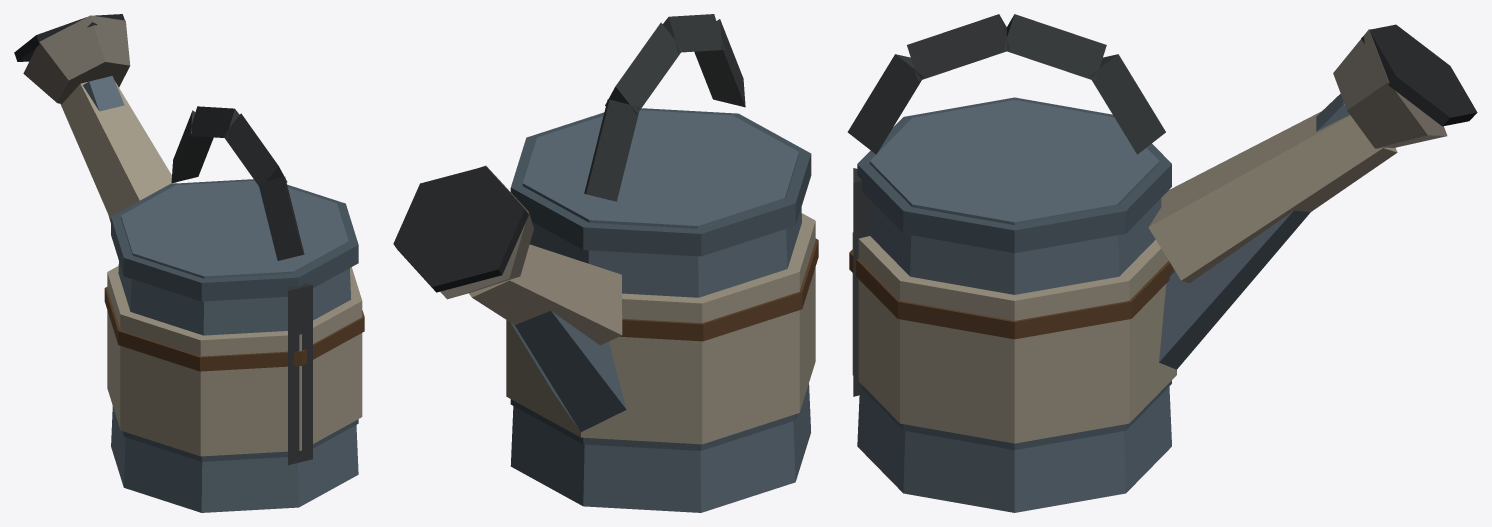
The model's file is tool_watering_can_quiet.glb.
The picture shows the model from 3 angles, left to right: view 1: azimuth 30°, elevation 25°; view 2: azimuth 150°, elevation 25°; view 3: azimuth 270°, elevation 25°; orthographic projection. The views are drawn at different scales.
Parts seen in each view (by area): view 1: Can; view 2: Can; view 3: Can.
Boxes of the visible parts, left/top/right/bottom form: Can: left=14, top=14, right=364, bottom=512; Can: left=393, top=14, right=818, bottom=512; Can: left=847, top=14, right=1477, bottom=512.
Size of the model in its own units: 0.21 by 0.3031 by 0.4002.
